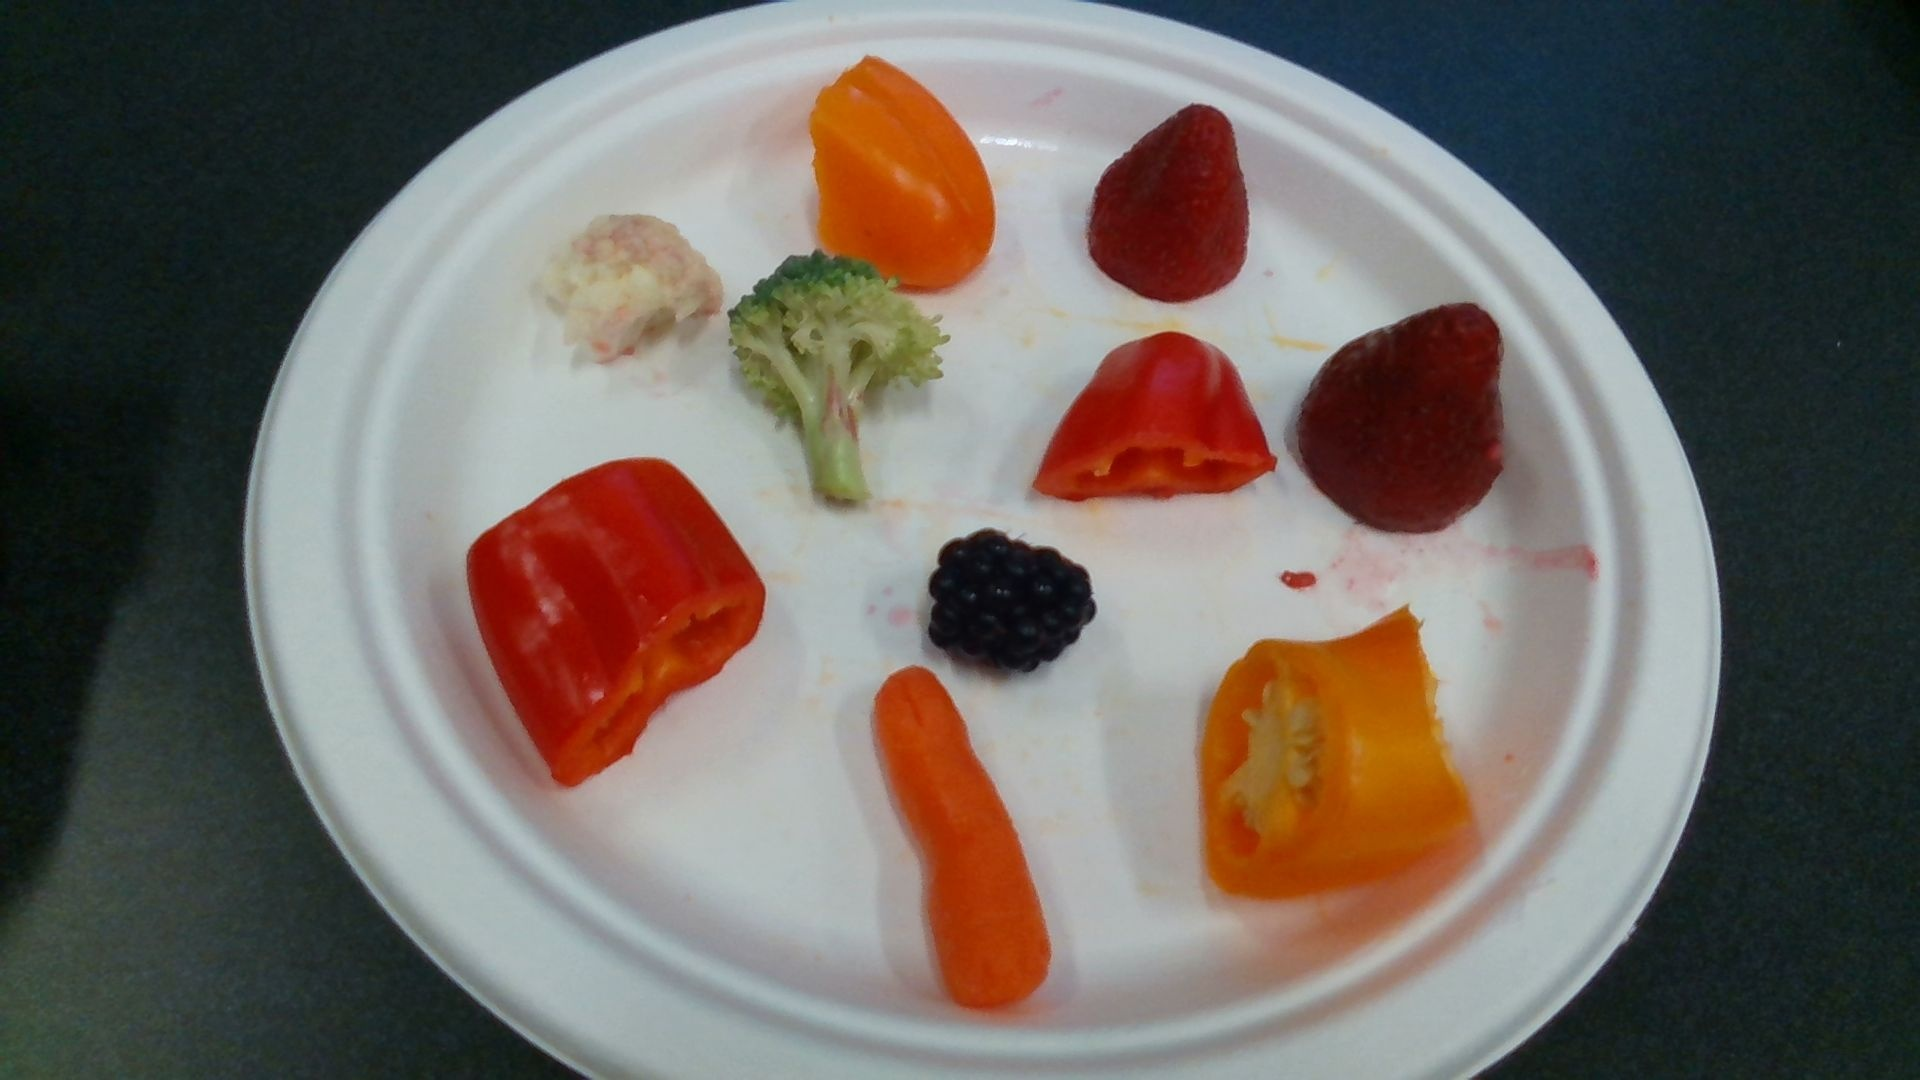bell_pepper: (469, 458, 762, 783), (1204, 608, 1477, 899), (810, 53, 994, 291), (1033, 336, 1273, 498)
blackberry: (932, 535, 1095, 670)
broccoli: (731, 258, 944, 505)
carrot: (874, 669, 1047, 1010)
cauliflower: (537, 216, 724, 360)
strawberry: (1299, 303, 1505, 527), (1091, 105, 1247, 298)
